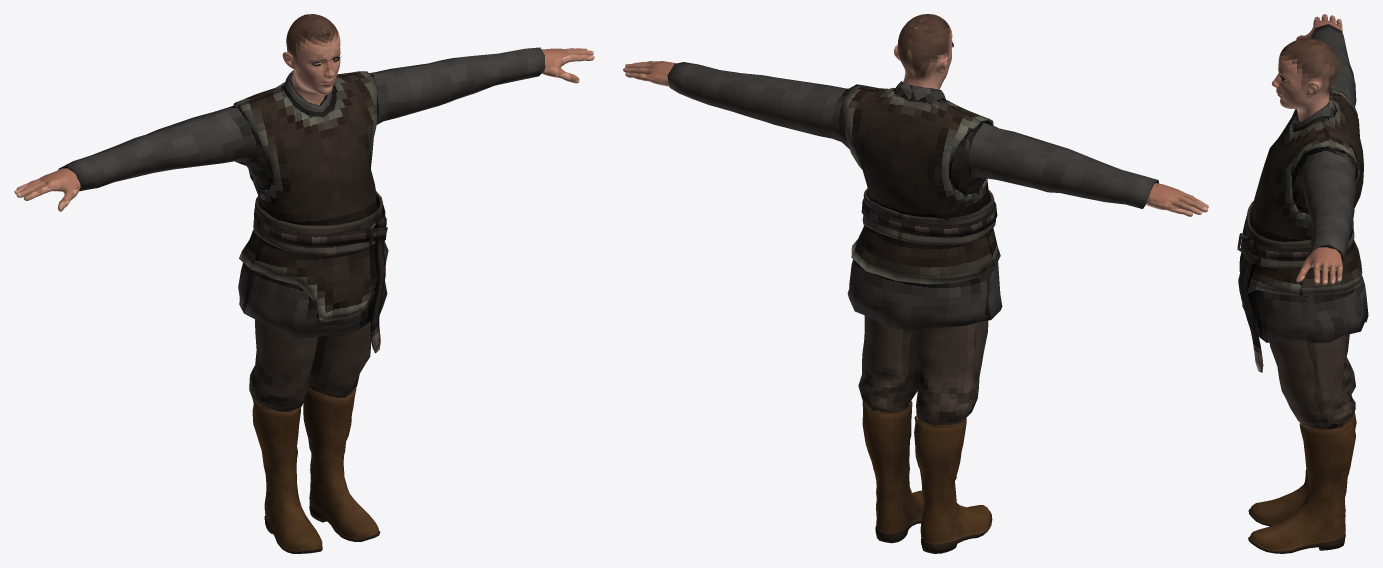
File: man.obj
3 renders of one model, left to right at view 1: azimuth 30°, elevation 25°; view 2: azimuth 150°, elevation 25°; view 3: azimuth 270°, elevation 25°, orthographic. The views are drawn at different scales.
Parts seen in each view (by area): view 1: Tops, Shoes, Bottoms, Body; view 2: Tops, Shoes, Bottoms, Body; view 3: Tops, Shoes, Bottoms, Body.
Boxes of the visible parts, <box> form: Tops: <box>58,47,545,353</box>; Shoes: <box>252,387,380,553</box>; Bottoms: <box>249,319,371,411</box>; Body: <box>14,14,594,211</box>; Tops: <box>667,62,1158,329</box>; Shoes: <box>862,401,992,553</box>; Bottoms: <box>858,315,988,425</box>; Body: <box>623,14,1208,216</box>; Tops: <box>1237,24,1368,372</box>; Shoes: <box>1248,395,1356,553</box>; Bottoms: <box>1269,334,1355,429</box>; Body: <box>1271,14,1342,284</box>.
Bounding box in the file's own units: 212 × 180 × 43.4.
Materials: 4 (4 with a texture image).
